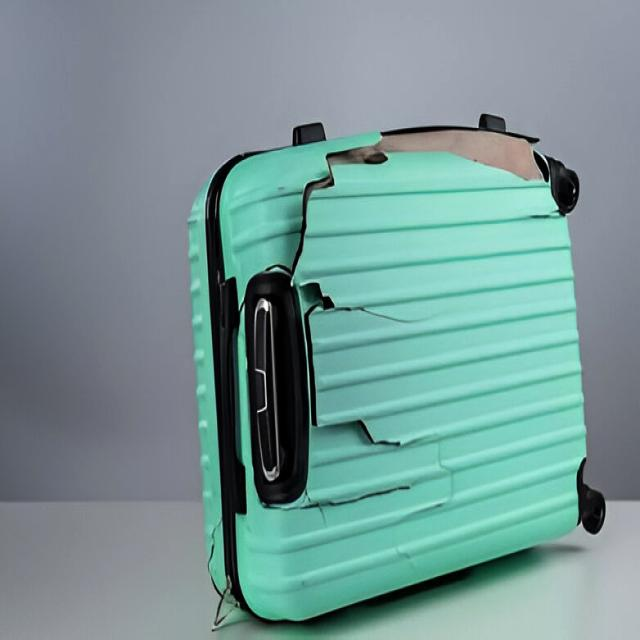Damage-bag: (291, 113, 579, 279), (390, 432, 452, 512), (301, 282, 335, 424), (302, 485, 411, 524), (317, 420, 402, 450), (331, 304, 433, 327), (220, 280, 245, 328), (259, 260, 294, 280), (208, 520, 222, 570)
